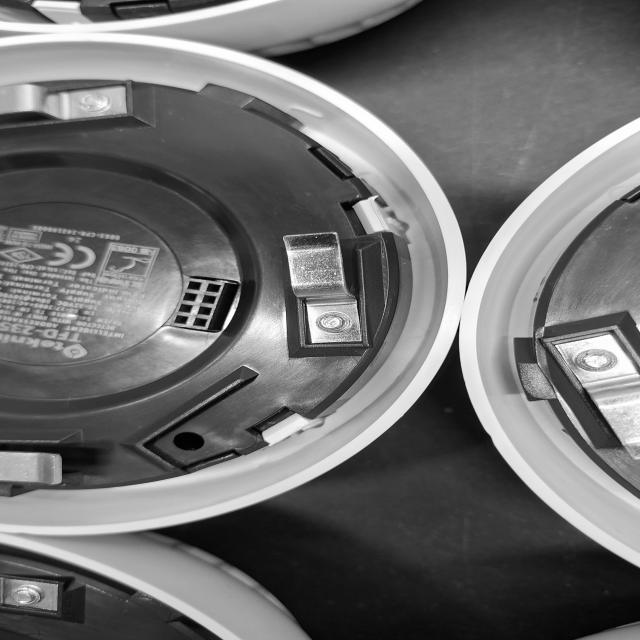yaysiz: (268, 219, 393, 362)
